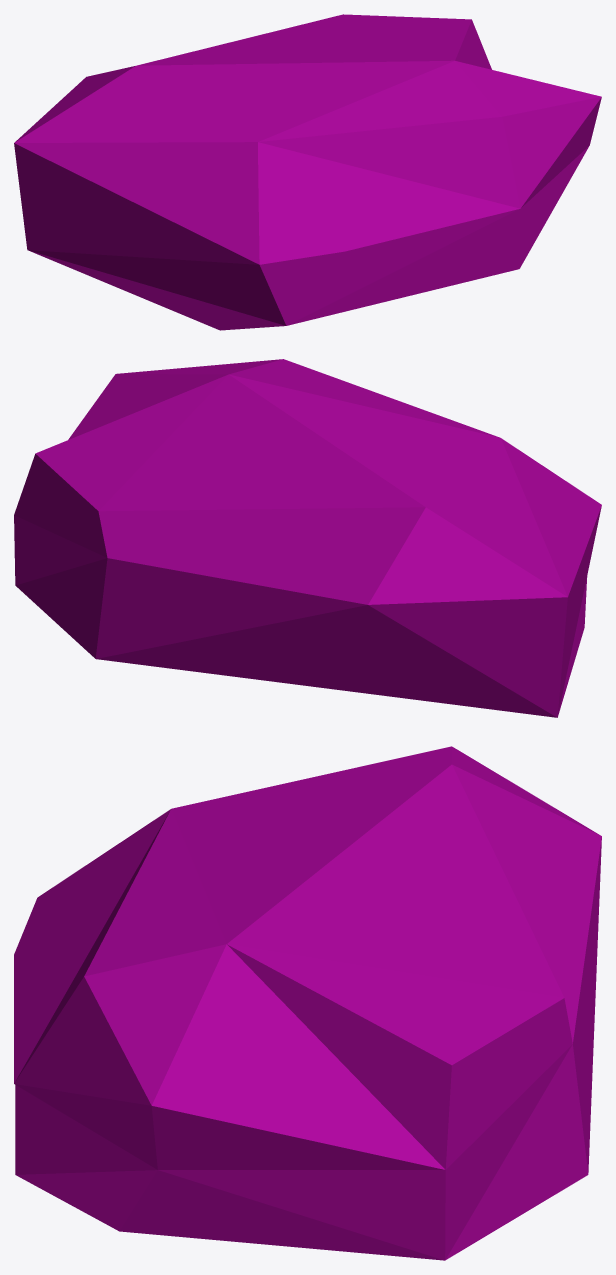
File: Collider_Med_Rock_001.fbx
The picture shows the model from 3 angles, top to bottom: view 1: azimuth 30°, elevation 25°; view 2: azimuth 150°, elevation 25°; view 3: azimuth 270°, elevation 25°; orthographic projection. The views are drawn at different scales.
Visible parts, largest first — view 1: Collider_Med_Rock_001; view 2: Collider_Med_Rock_001; view 3: Collider_Med_Rock_001.
Boxes of the visible parts, x1,y1,x2,y2 form: Collider_Med_Rock_001: (14, 14, 601, 330); Collider_Med_Rock_001: (14, 359, 601, 717); Collider_Med_Rock_001: (14, 746, 601, 1260).
Bounding box in the file's own units: 3.97 × 1.38 × 2.74.
